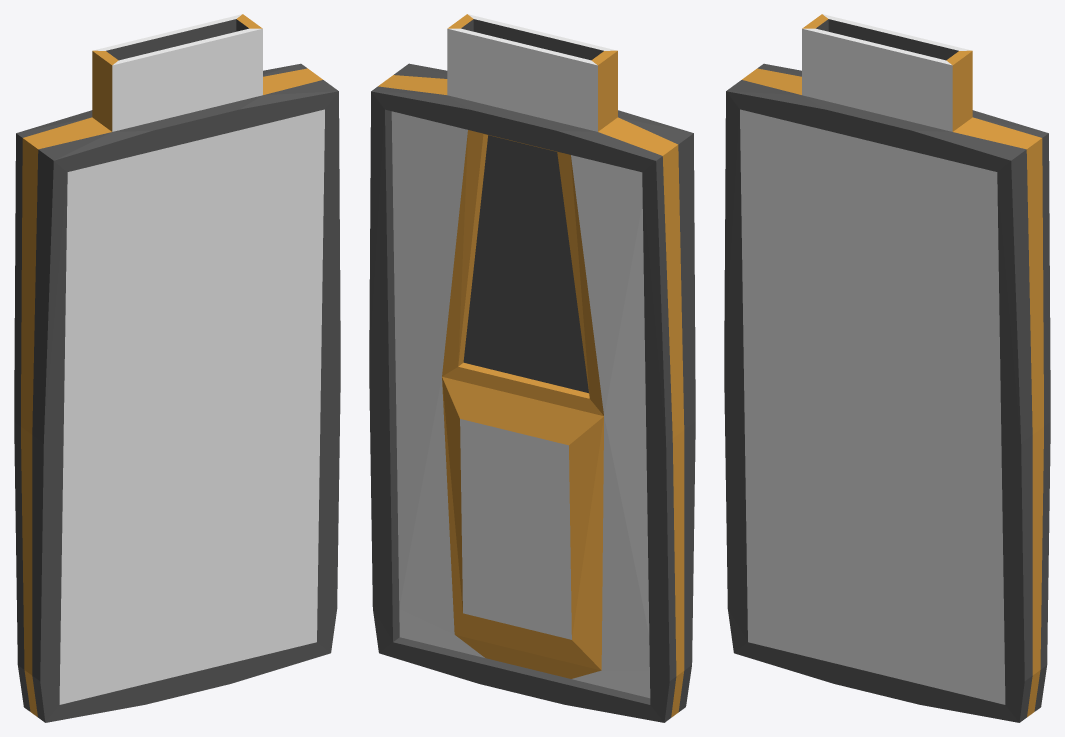
Rendered from MS_CardID.fbx.
3 views of the same model, side by side, from view 1: azimuth 30°, elevation 25°; view 2: azimuth 150°, elevation 25°; view 3: azimuth 330°, elevation 25° (orthographic).
Parts seen in each view (by area): view 1: MS_CardID; view 2: MS_CardID; view 3: MS_CardID.
Part boxes in pixels (x1,y1,x2,y2): MS_CardID: [14, 14, 340, 722]; MS_CardID: [369, 14, 695, 722]; MS_CardID: [724, 14, 1050, 722].
Bounding box in the file's own units: 0.1154 × 0.2401 × 0.0254.
